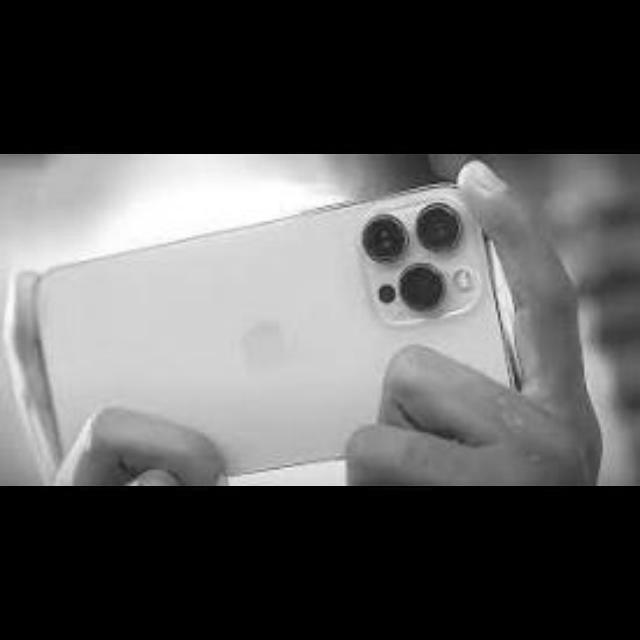fake: (11, 191, 590, 463)
